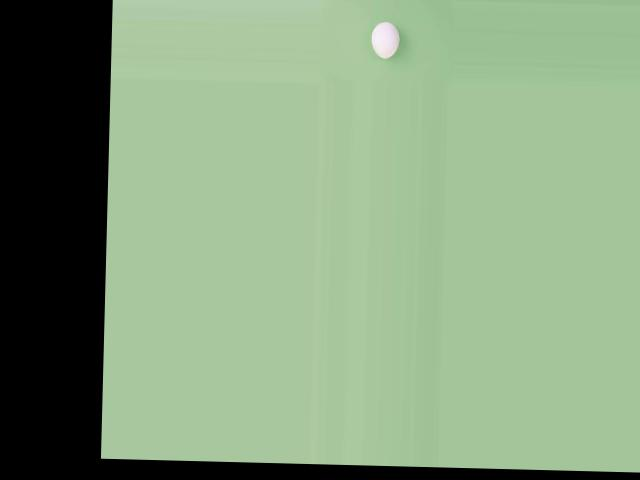egg: (370, 20, 399, 58)
